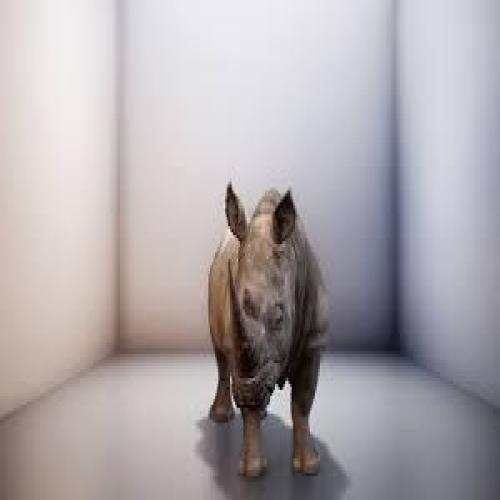rhino-endangered: (205, 178, 332, 479)
